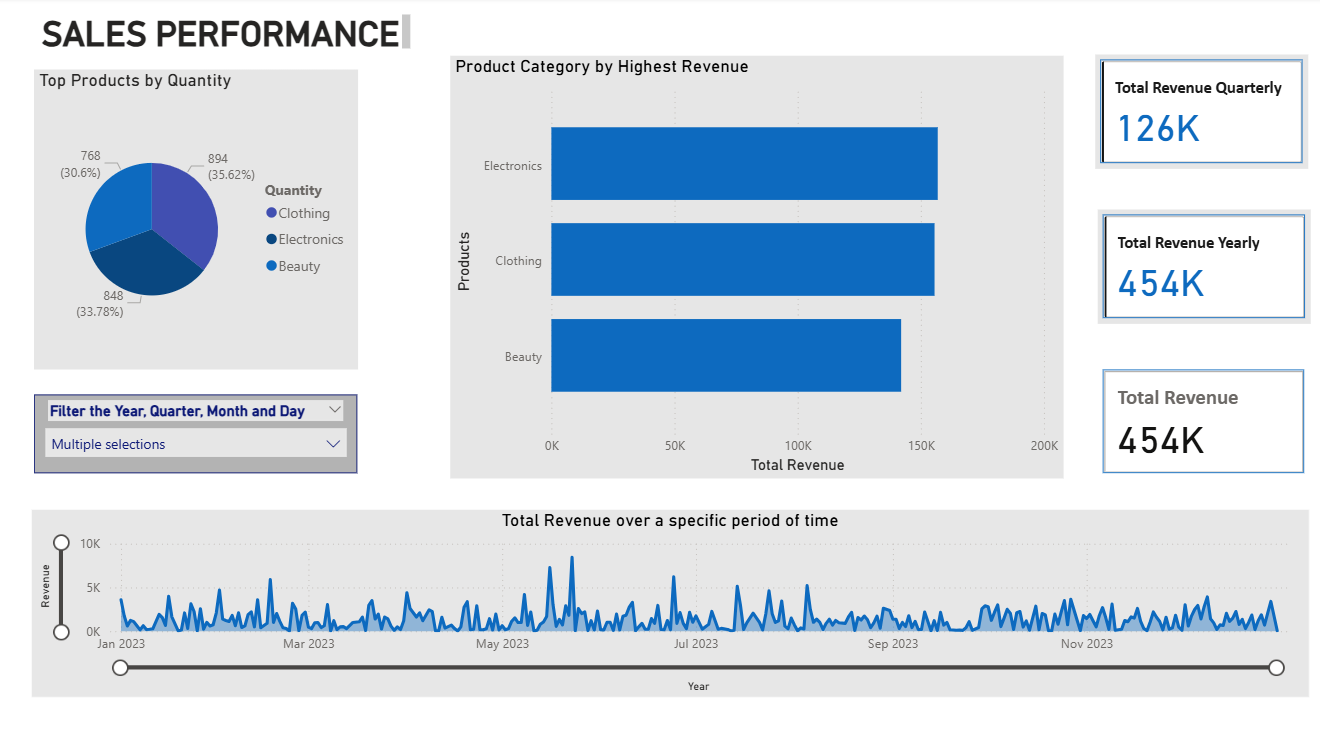

What the dashboard file says about the page in this screenshot:
{"tool":"powerbi","page":{"name":"Page 1","canvas":[1280,720],"ordinal":0},"visuals":[{"type":"areaChart","title":"Total Revenue over a specific period of time","fields":{"Category":["retail_sales_dataset.Date.Variation.Date Hierarchy.Year","retail_sales_dataset.Date.Variation.Date Hierarchy.Quarter","retail_sales_dataset.Date.Variation.Date Hierarchy.Month","retail_sales_dataset.Date.Variation.Date Hierarchy.Day"],"Y":["Sum(retail_sales_dataset.Revenue)"]},"box":[32.9,506.3,1217.7,188.6],"z":0},{"type":"slicer","fields":{"Values":["retail_sales_dataset.Date.Variation.Date Hierarchy.Year","retail_sales_dataset.Date.Variation.Date Hierarchy.Quarter","retail_sales_dataset.Date.Variation.Date Hierarchy.Month","retail_sales_dataset.Date.Variation.Date Hierarchy.Day"]},"box":[34,384,312,76],"z":1000},{"type":"clusteredBarChart","title":"Product Category by  Highest Revenue","fields":{"Category":["retail_sales_dataset.Products"],"Y":["retail_sales_dataset.Total Revenue"]},"box":[421.5,57,591.1,407.6],"z":2000},{"type":"pieChart","fields":{"Category":["retail_sales_dataset.Products"],"Y":["Sum(retail_sales_dataset.Quantity)"]},"box":[33.3,82.7,313.3,289.3],"z":3000},{"type":"textbox","box":[33.3,25.3,376,45.3],"z":4000},{"type":"cardVisual","fields":{"Data":["retail_sales_dataset.Total Revenue"]},"box":[1046.8,354.4,205.1,110.1],"z":5000},{"type":"cardVisual","fields":{"Data":["retail_sales_dataset.Total Revenue Yearly"]},"box":[1045.6,205.1,206.3,110.1],"z":6000},{"type":"cardVisual","fields":{"Data":["retail_sales_dataset.Total Revenue Quarterly"]},"box":[1044.3,57,206.3,110.1],"z":7000}]}

Visuals, with their boxes in screenshot pixels (x1, y1, x2, y2), scaled from the page's 1280x720 canvas onto the 1320x740 screenshot:
"Total Revenue over a specific period of time" areaChart: (34, 520, 1290, 714)
slicer - retail_sales_dataset.Date.Variation.Date Hierarchy.Year x retail_sales_dataset.Date.Variation.Date Hierarchy.Quarter: (35, 395, 357, 473)
"Product Category by  Highest Revenue" clusteredBarChart: (435, 59, 1044, 478)
pieChart - retail_sales_dataset.Products x Sum(retail_sales_dataset.Quantity): (34, 85, 357, 382)
textbox: (34, 26, 422, 73)
cardVisual - retail_sales_dataset.Total Revenue: (1080, 364, 1291, 477)
cardVisual - retail_sales_dataset.Total Revenue Yearly: (1078, 211, 1291, 324)
cardVisual - retail_sales_dataset.Total Revenue Quarterly: (1077, 59, 1290, 172)
